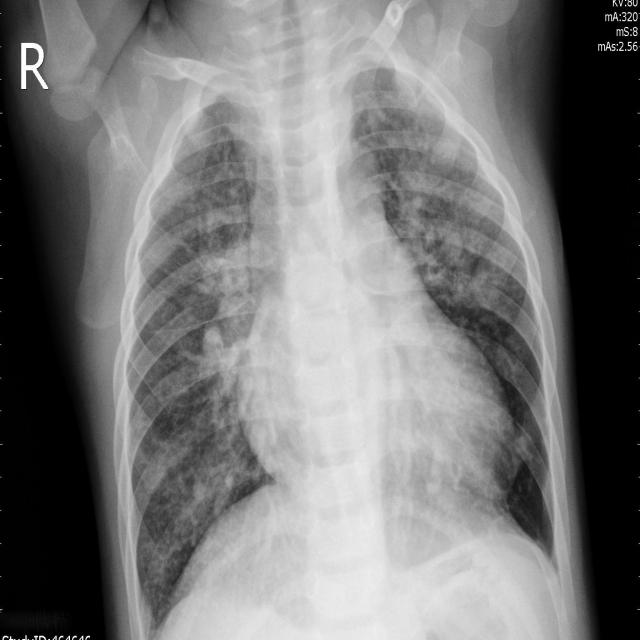low-pneumonia: (388, 72, 526, 326), (182, 220, 261, 527)
